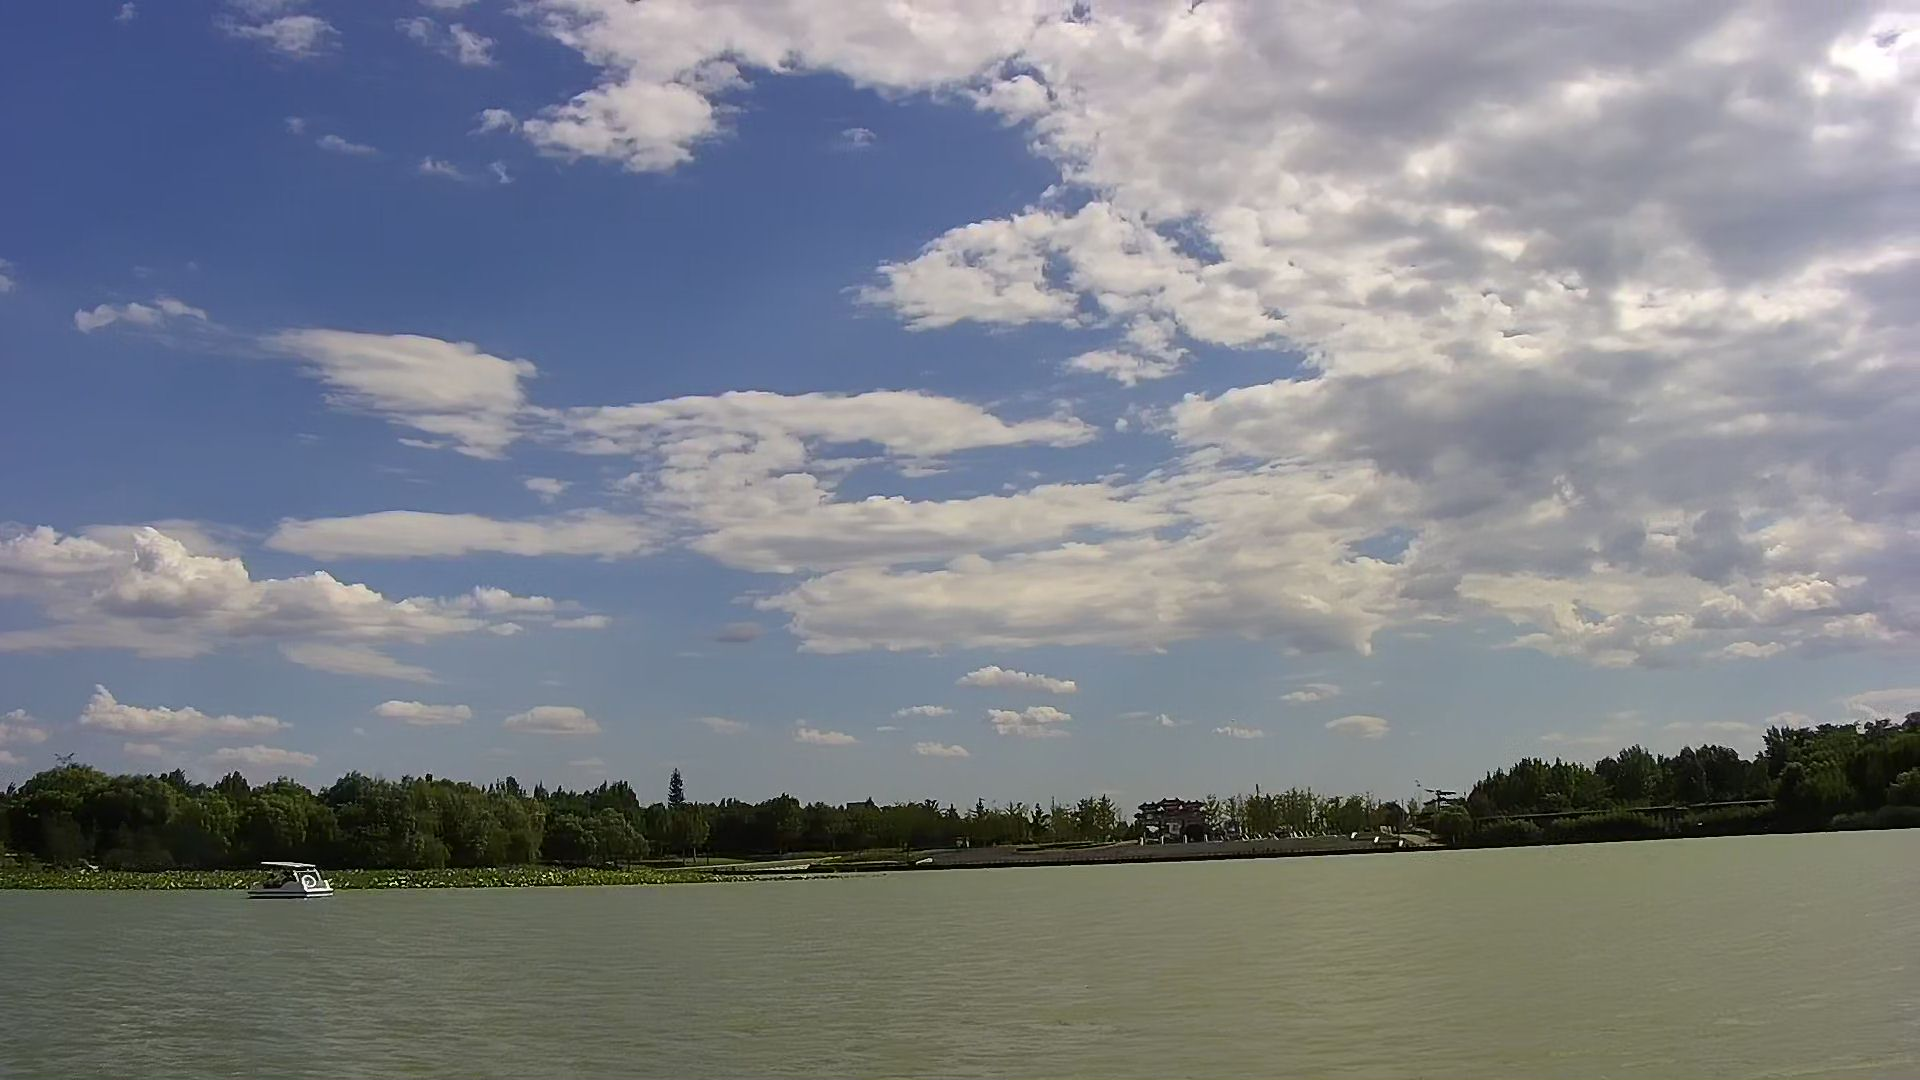boat: (244, 858, 338, 905)
